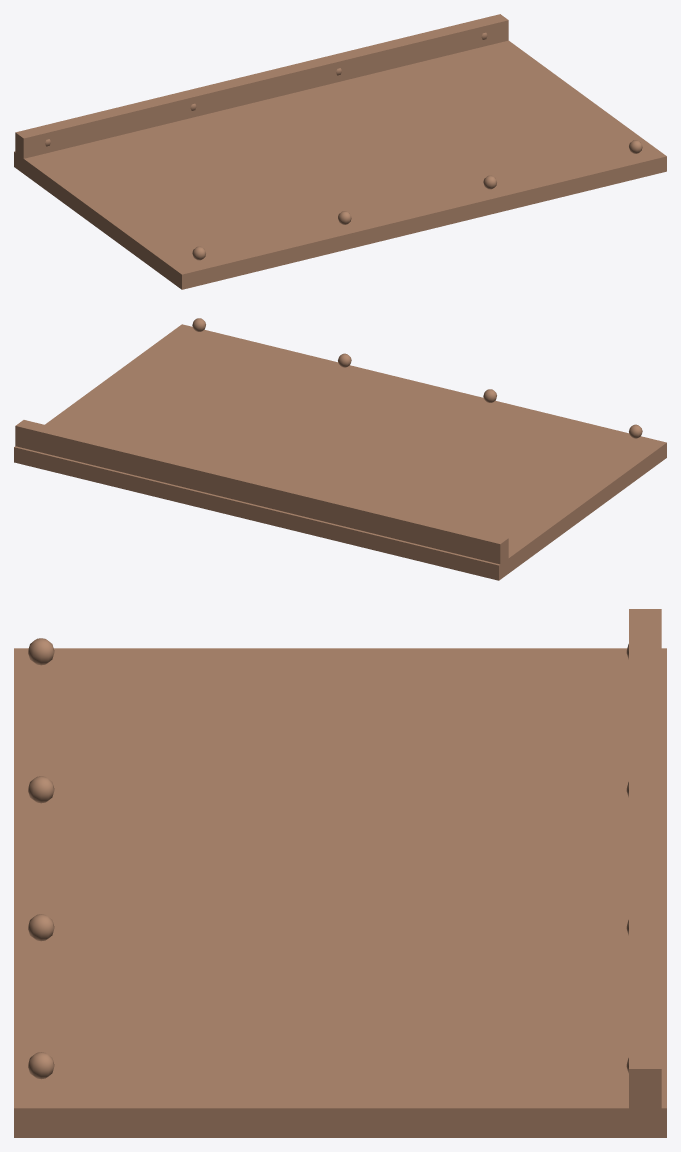
Rendered from underwater-reef-worlds-hull-plate-12728c1a__7059.glb.
3 views of the same model, one above another, from view 1: azimuth 30°, elevation 25°; view 2: azimuth 150°, elevation 25°; view 3: azimuth 270°, elevation 25° (orthographic). The views are drawn at different scales.
Parts seen in each view (by area): view 1: hull-plate; view 2: hull-plate; view 3: hull-plate.
Part boxes in pixels (x1,y1,x2,y2): hull-plate: (14, 14, 666, 289); hull-plate: (14, 318, 666, 580); hull-plate: (14, 609, 666, 1137).
Size of the model in its own units: 2 by 0.1401 by 1.2.
